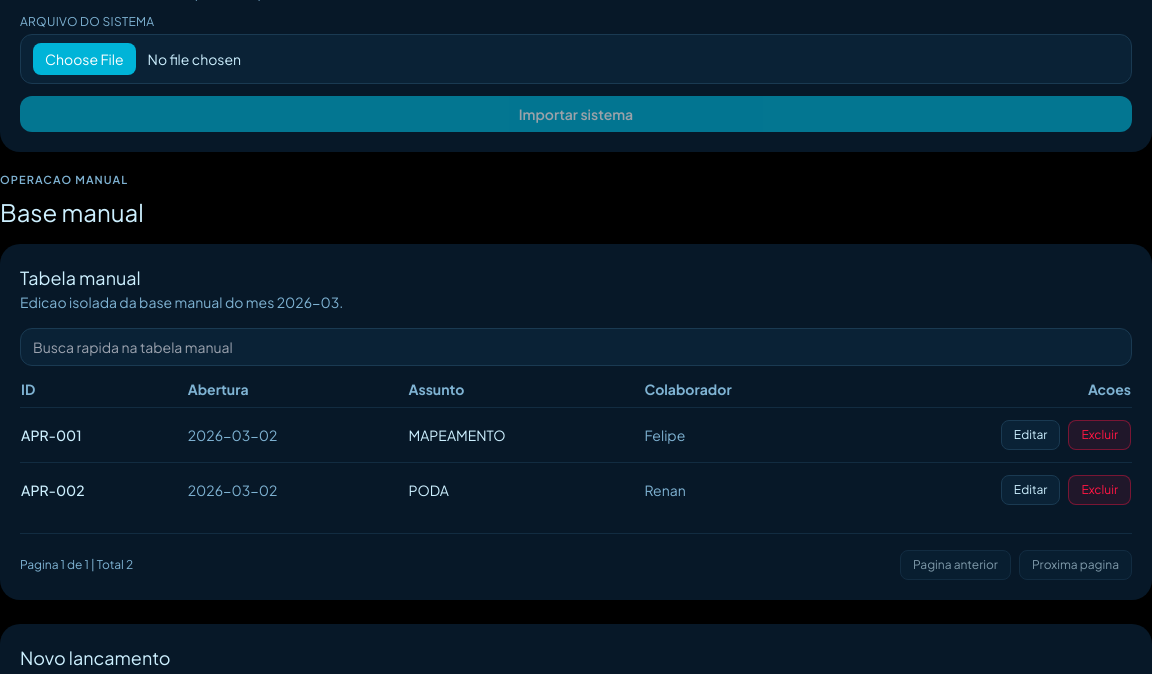
Test case: AprPage › filtra rapidamente a tabela manual por assunto e colaborador
(page scrolled)
Expected: the table is shown, x1=20 y1=408 x2=1132 y2=517
Type "renan" into the search field with placeholder "Busca rapida na tabela manual" at [576, 347], box x1=20 y1=328 x2=1132 y2=366
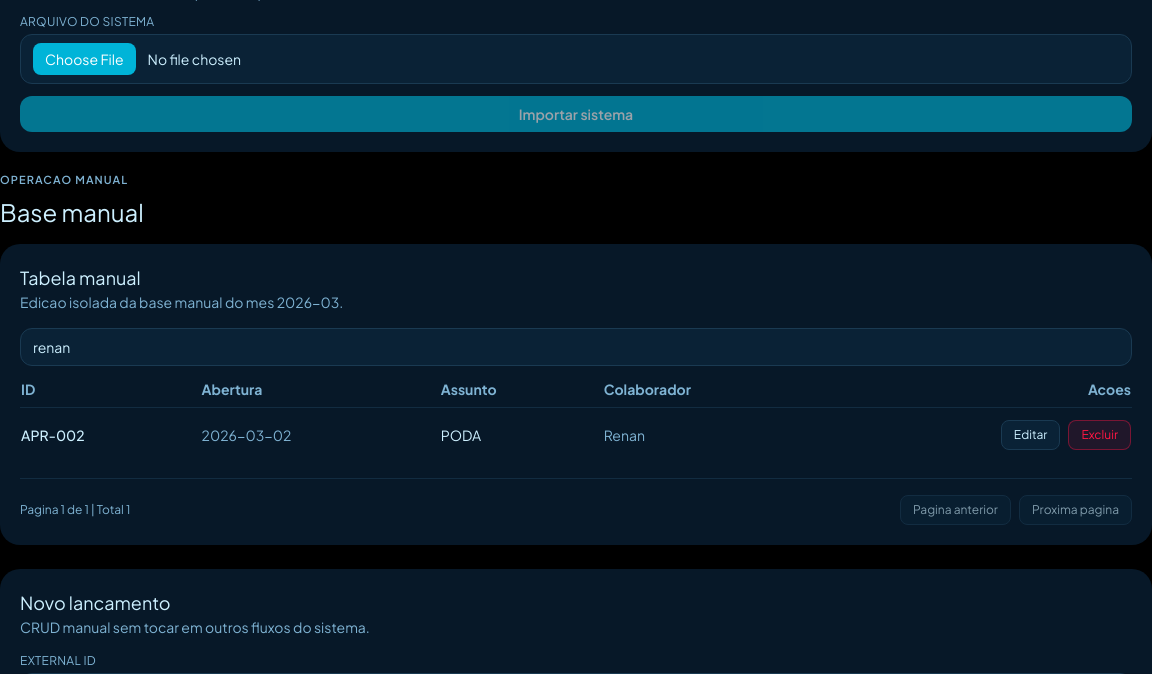
Expected: the text "APR-002" is shown, x1=20 y1=408 x2=201 y2=462
Result: the text "APR-001" is gone
